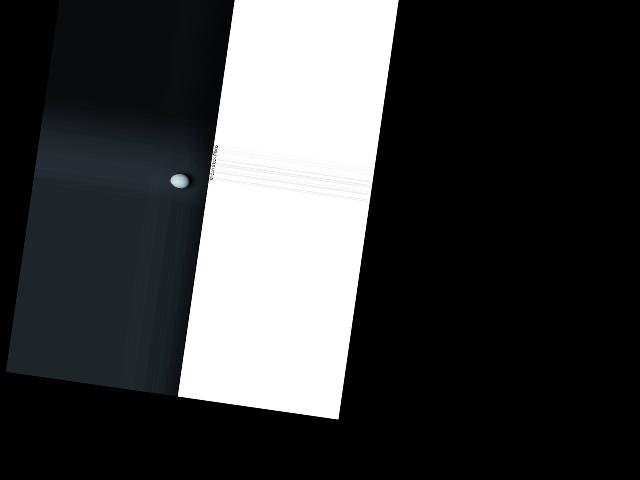egg: (169, 172, 190, 189)
